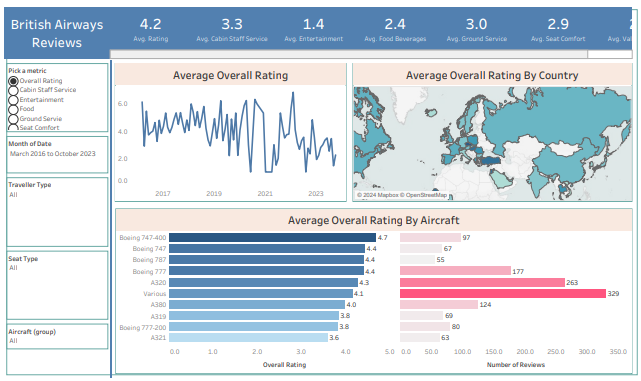

What the dashboard file says about the page in this screenshot:
{"tool":"tableau","page":{"name":"Dashboard 1","canvas":[1200,700],"ordinal":0},"visuals":[{"type":"filter","title":"Map","param":"[federated.14falvl1hbvh7g15yabau0ei6mq4].[none:Continent:nk]","box":[0,0,1200,700]},{"type":"text","box":[0,0,199,97]},{"type":"worksheet","title":"Summary","mark":"Automatic","box":[200,0,986,98]},{"type":"blank","box":[200,100,3,600]},{"type":"parameter","param":"[Parameters].[Parameter 1]","box":[0,102,200,140.5]},{"type":"worksheet","title":"Month","mark":"Automatic","rows":["Calculation_1754715012004597760"],"cols":["date"],"box":[205,102,445,270]},{"type":"worksheet","title":"Map","mark":"Automatic","box":[654,102,536,270]},{"type":"filter","title":"Map","param":"[federated.14falvl1hbvh7g15yabau0ei6mq4].[tmn:date:qk]","box":[0,242.5,200,77]},{"type":"filter","title":"Map","param":"[federated.14falvl1hbvh7g15yabau0ei6mq4].[none:traveller_type:nk]","box":[0,319.5,200,140.5]},{"type":"worksheet","title":"Aircraft","mark":"Automatic","cols":["Calculation_1754715012004597760","ba_reviews.csv_B53DCC4F16694DC09BCAB845958250FF"],"box":[206,377,984,321]},{"type":"filter","title":"Map","param":"[federated.14falvl1hbvh7g15yabau0ei6mq4].[none:seat_type:nk]","box":[0,460,200,135]},{"type":"filter","title":"Map","param":"[federated.14falvl1hbvh7g15yabau0ei6mq4].[Aircraft (group)]","box":[0,595,200,56]}]}

Visuals, with their boxes in screenshot pixels (x1, y1, x2, y2), scaled from the page's 1200x700 canvas onto the 641x381 screenshot:
"Map" filter: <box>0,0,640,380</box>
text: <box>0,0,106,53</box>
"Summary" worksheet: <box>107,0,634,53</box>
blank: <box>107,54,108,380</box>
parameter: <box>0,56,107,132</box>
"Month" worksheet: <box>110,56,347,202</box>
"Map" worksheet: <box>349,56,636,202</box>
"Map" filter: <box>0,132,107,174</box>
"Map" filter: <box>0,174,107,250</box>
"Aircraft" worksheet: <box>110,205,636,380</box>
"Map" filter: <box>0,250,107,324</box>
"Map" filter: <box>0,324,107,354</box>
